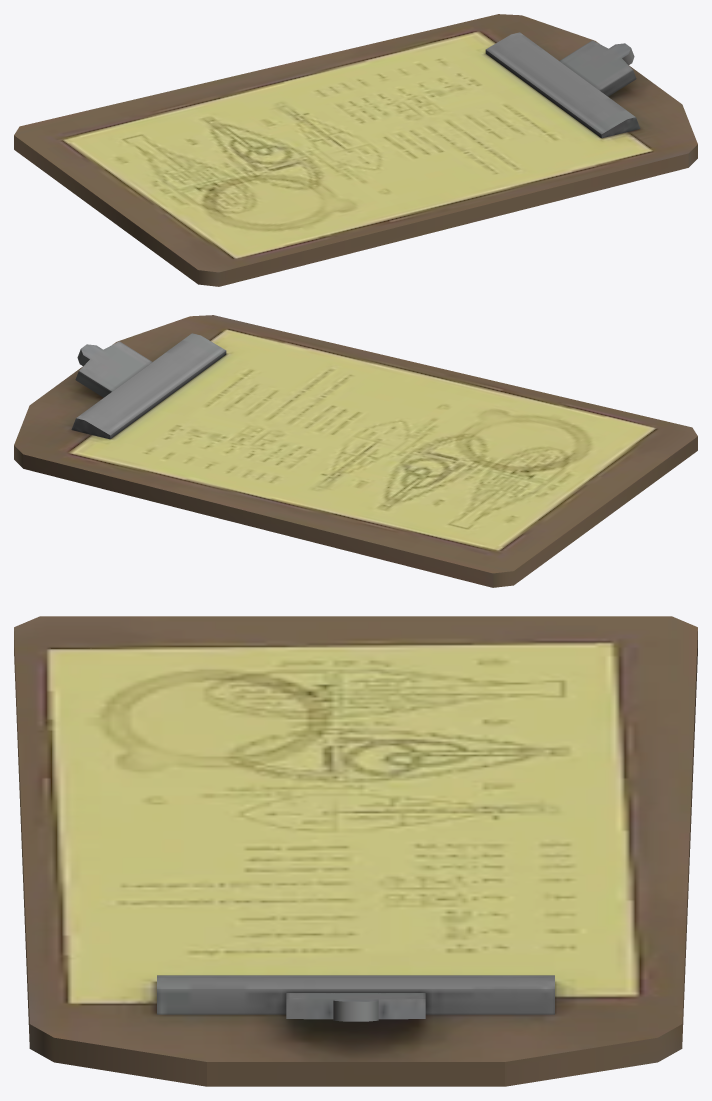
3 renders of one model, top to bottom at view 1: azimuth 30°, elevation 25°; view 2: azimuth 150°, elevation 25°; view 3: azimuth 270°, elevation 25°, orthographic. The views are drawn at different scales.
Parts seen in each view (by area): view 1: body0_model0_lod0_mesh0; view 2: body0_model0_lod0_mesh0; view 3: body0_model0_lod0_mesh0.
Boxes of the visible parts, x1,y1,x2,y2 form: body0_model0_lod0_mesh0: [14, 14, 697, 286]; body0_model0_lod0_mesh0: [14, 315, 697, 587]; body0_model0_lod0_mesh0: [14, 616, 697, 1086].
Size of the model in its own units: 23.44 by 1.86 by 15.2.
Materials: 1 (1 with a texture image).
